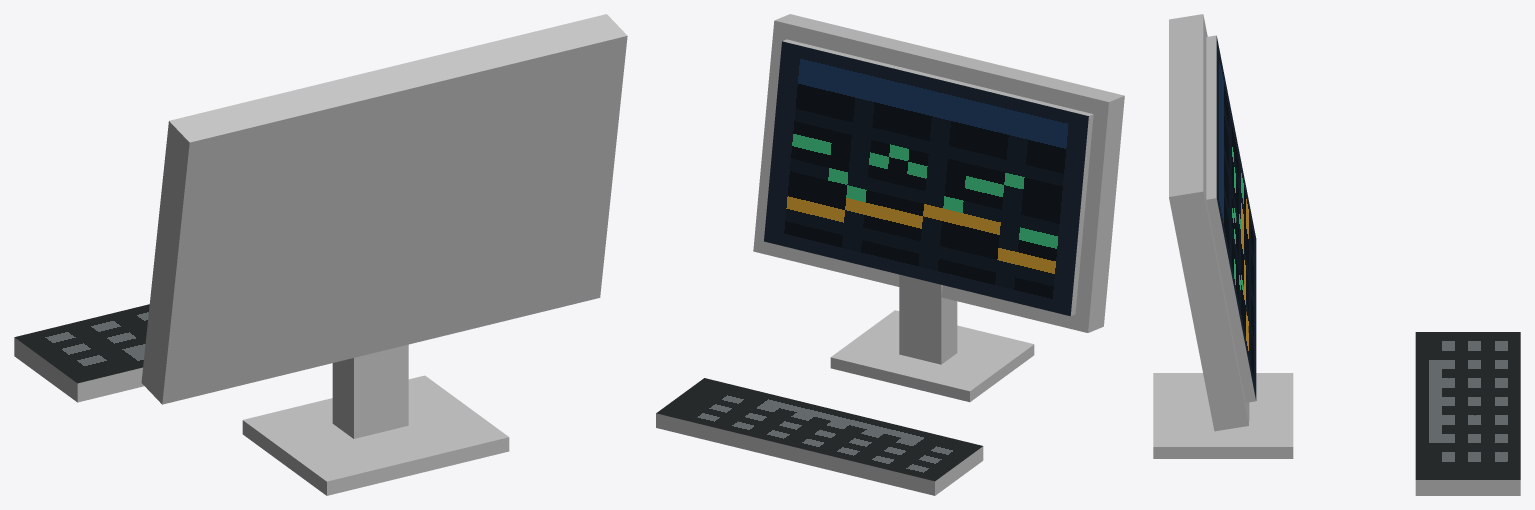
Rendered from desk_round_flat.obj.
3 renders of one model, left to right at view 1: azimuth 30°, elevation 25°; view 2: azimuth 150°, elevation 25°; view 3: azimuth 270°, elevation 25°, orthographic. The views are drawn at different scales.
Visible parts, largest first — view 1: desk_round_flat; view 2: desk_round_flat; view 3: desk_round_flat.
Boxes of the visible parts, x1,y1,x2,y2 form: desk_round_flat: (14,14,627,495); desk_round_flat: (656,14,1124,495); desk_round_flat: (1153,14,1520,495).
Size of the model in its own units: 0.48 by 0.4024 by 0.42.
